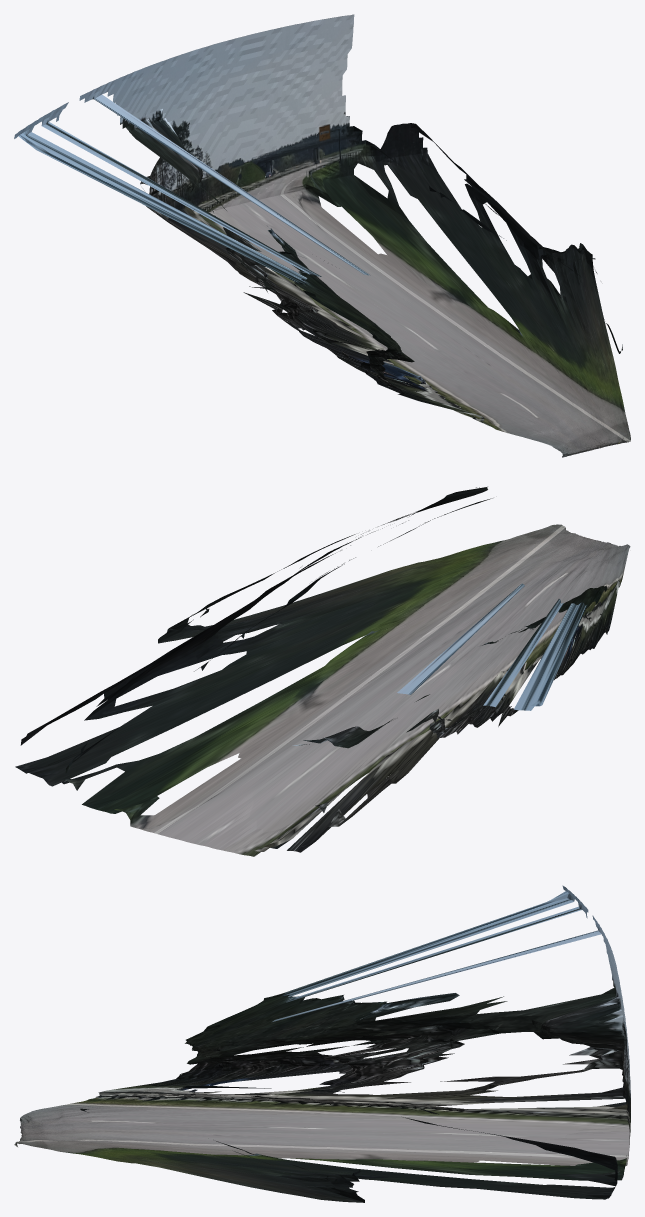
3 views of the same model, one above another, from view 1: azimuth 30°, elevation 25°; view 2: azimuth 150°, elevation 25°; view 3: azimuth 270°, elevation 25° (orthographic). The views are drawn at different scales.
Parts seen in each view (by area): view 1: defaultobject; view 2: defaultobject; view 3: defaultobject.
Boxes of the visible parts, x1=… form: defaultobject: x1=14, y1=14, x2=630, y2=457; defaultobject: x1=15, y1=486, x2=630, y2=856; defaultobject: x1=14, y1=885, x2=630, y2=1202.
Bounding box in the file's own units: 33.22 × 12.41 × 44.74.
Materials: 1 (1 with a texture image).
